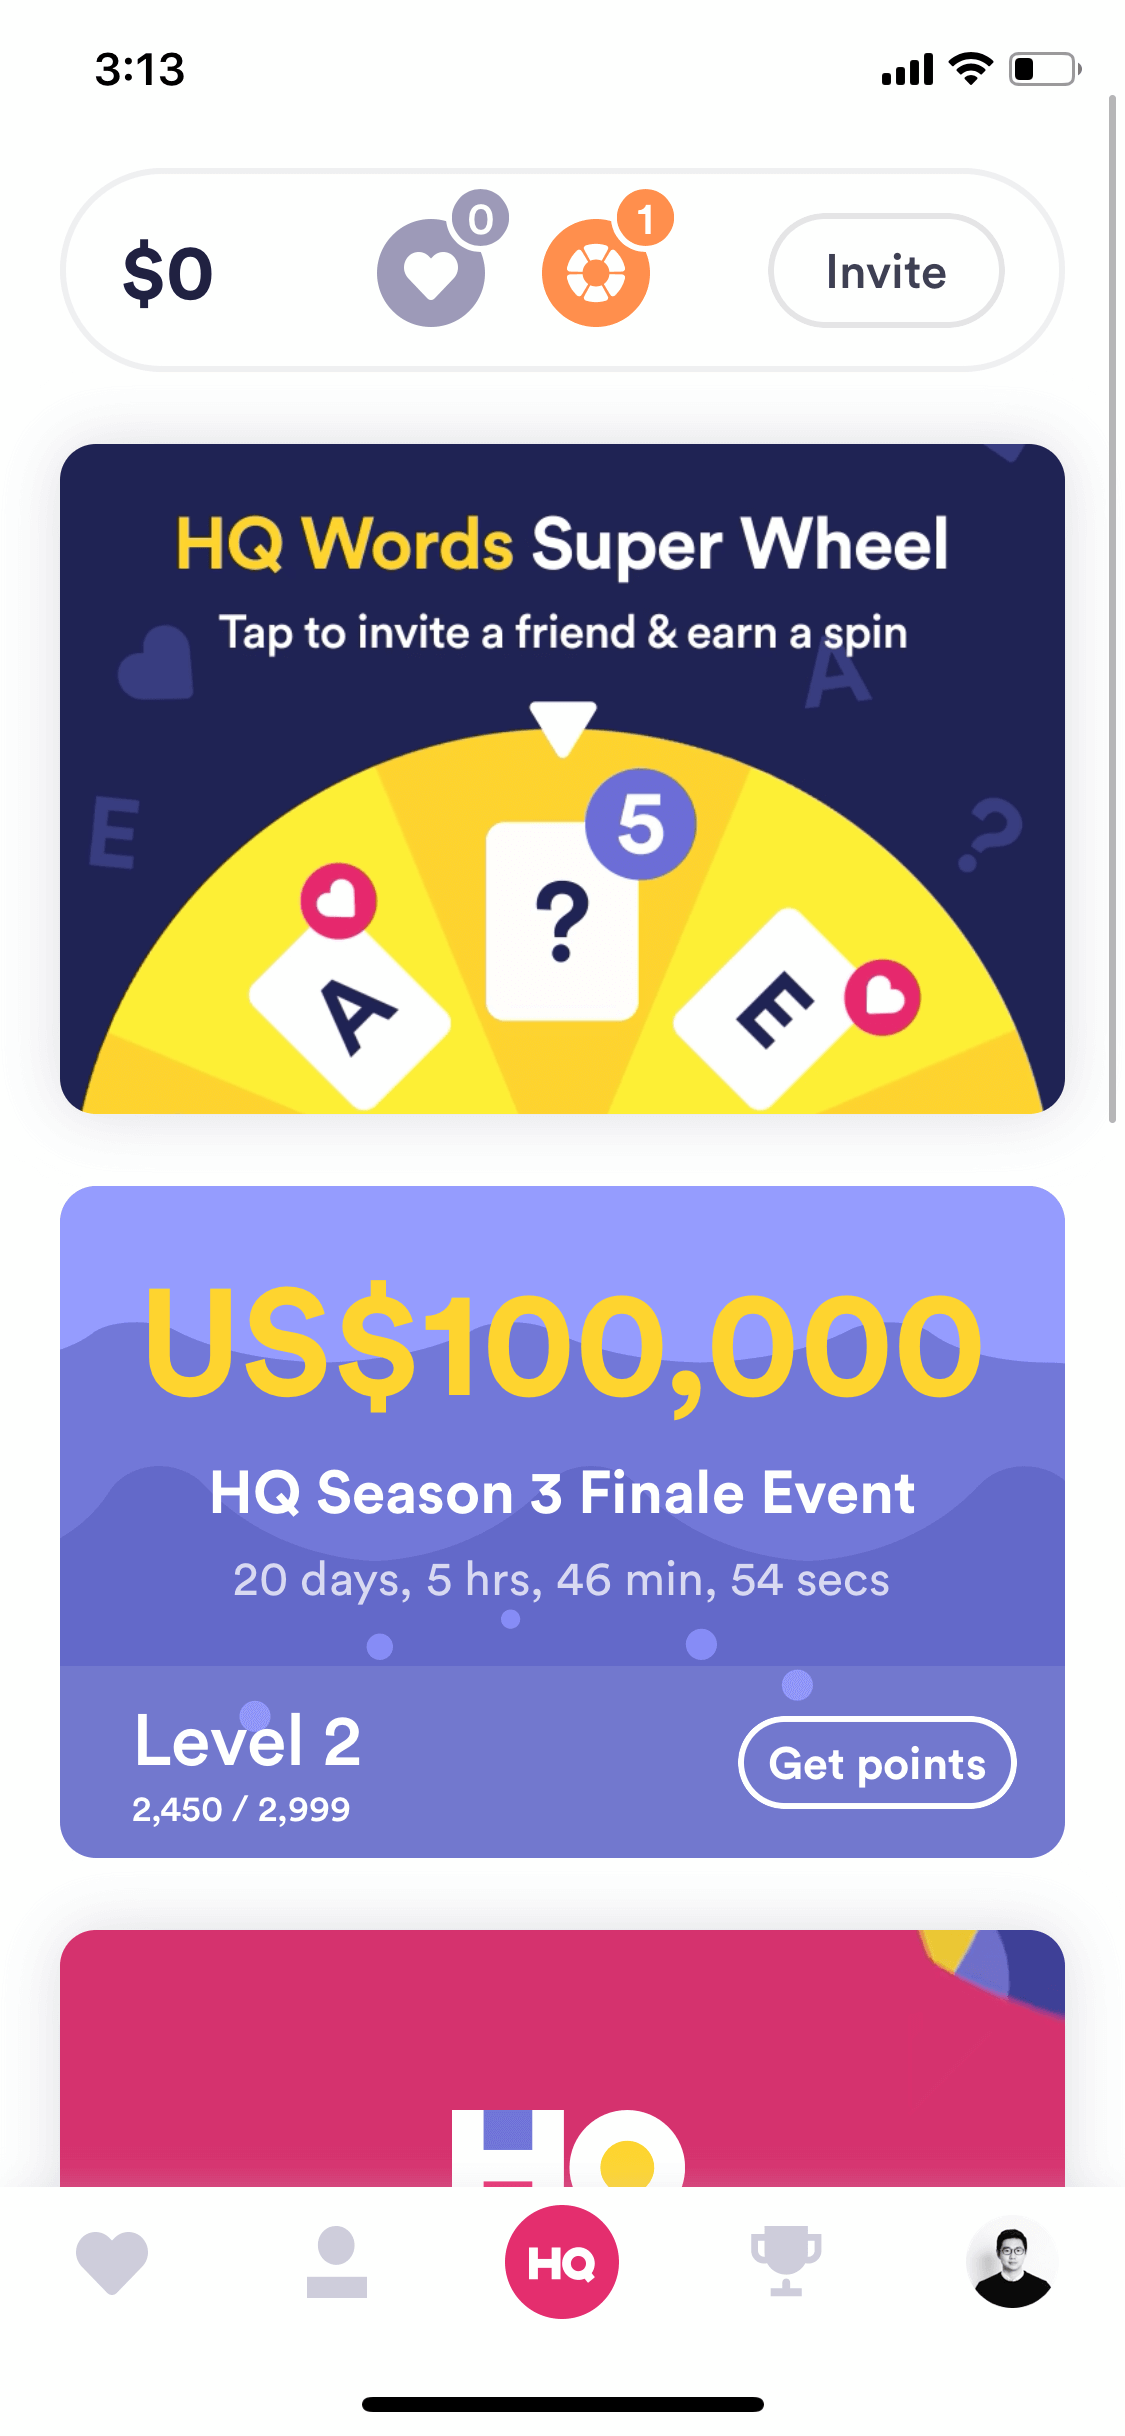Buttons: (751, 199, 1015, 346), (733, 1703, 1033, 1818)
